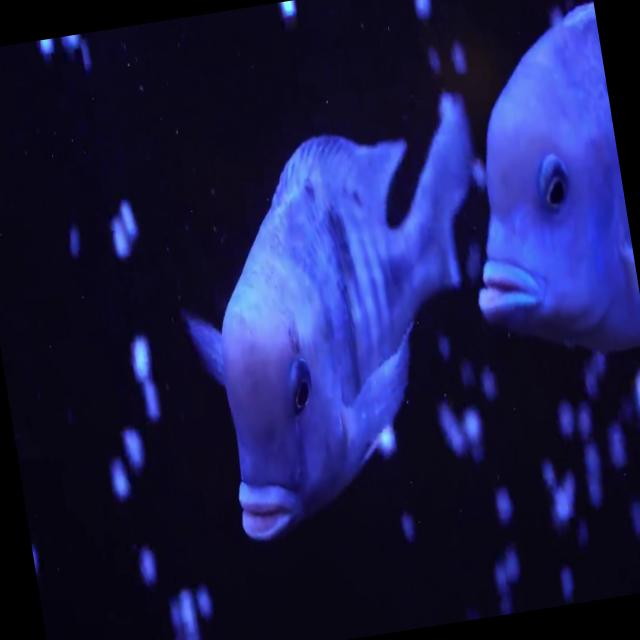fish: (144, 76, 537, 552), (424, 2, 640, 397)
